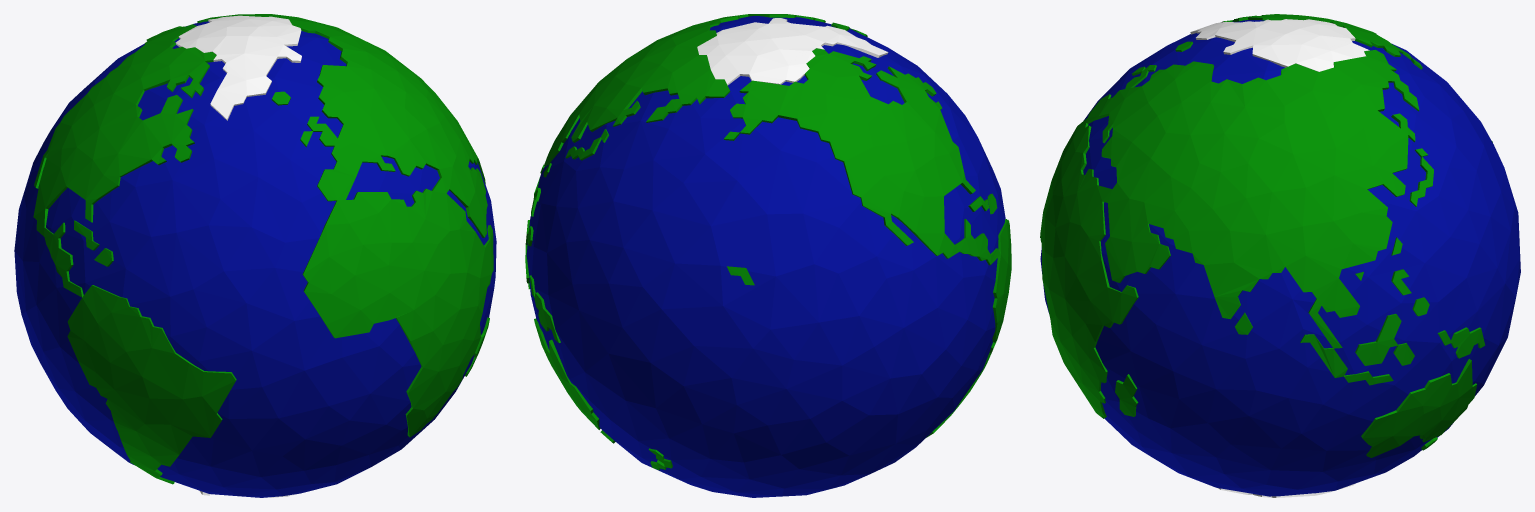
The model's file is Earth.obj.
3 views of the same model, side by side, from view 1: azimuth 30°, elevation 25°; view 2: azimuth 150°, elevation 25°; view 3: azimuth 270°, elevation 25° (orthographic).
Parts seen in each view (by area): view 1: Low_Poly_Earth; view 2: Low_Poly_Earth; view 3: Low_Poly_Earth.
Boxes of the visible parts, bbox=[...] form: Low_Poly_Earth: bbox=[14, 14, 496, 497]; Low_Poly_Earth: bbox=[525, 14, 1011, 497]; Low_Poly_Earth: bbox=[1040, 14, 1520, 497].
Bounding box in the file's own units: 5.94 × 5.98 × 5.94.
